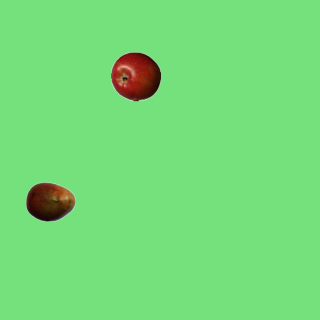Apple Braeburn: (110, 51, 160, 101)
Mango Red: (25, 176, 75, 226)
